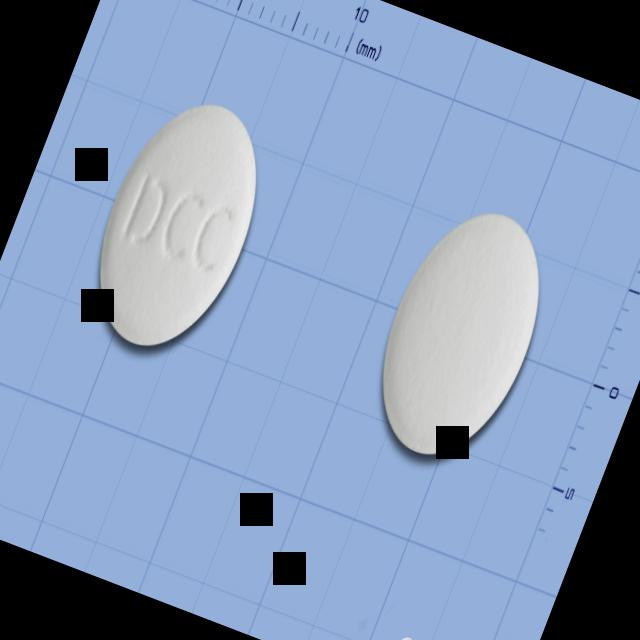Ciproxin -250mg: (64, 77, 294, 376)
